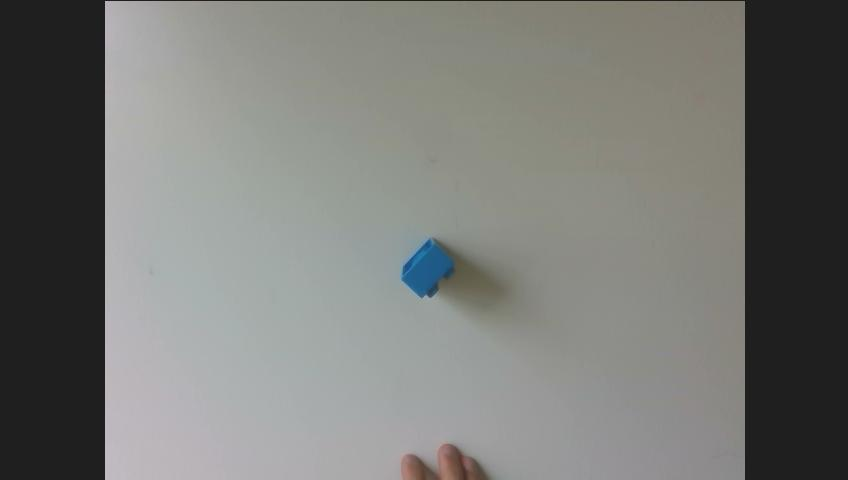4x2_blue: (400, 238, 452, 298)
